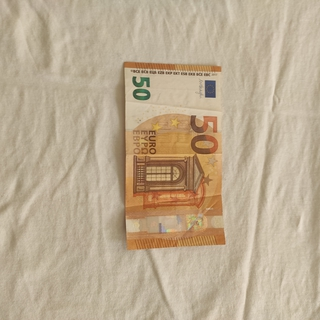50EUROFront: (123, 61, 226, 250)
